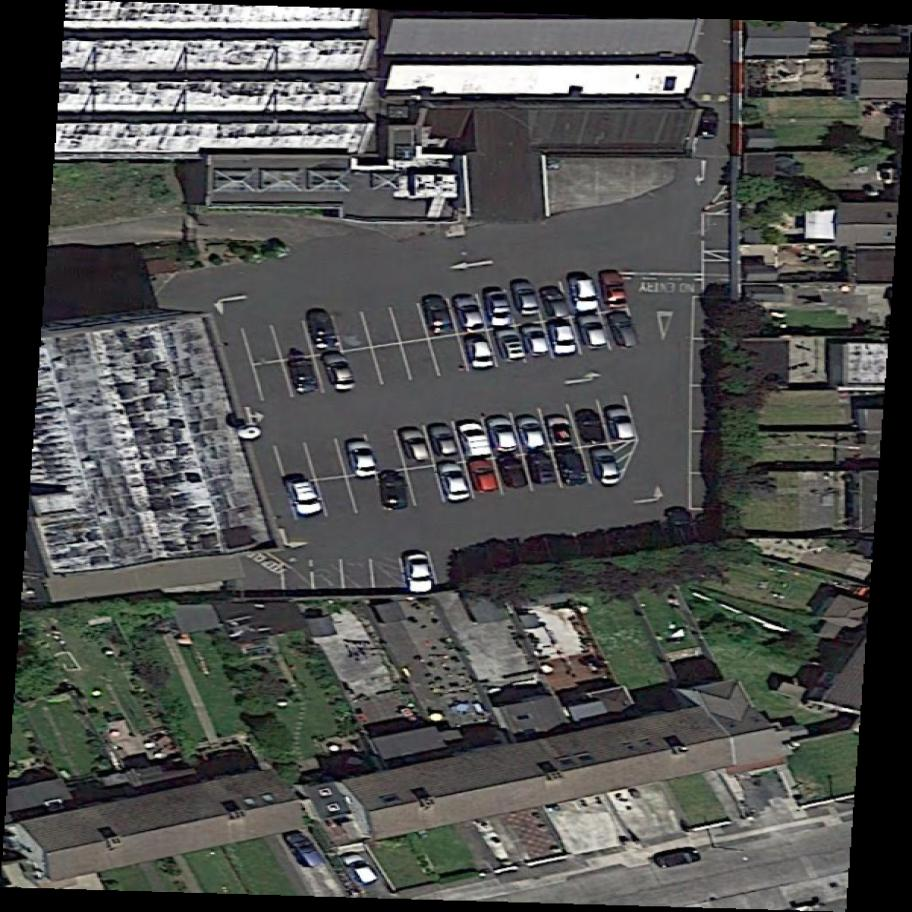small-vehicle: (284, 824, 326, 874), (285, 473, 326, 524), (320, 346, 358, 397), (587, 441, 624, 492), (341, 846, 381, 891), (419, 293, 457, 340), (457, 418, 495, 465), (605, 307, 642, 354), (564, 275, 601, 319), (437, 460, 472, 506), (454, 290, 487, 337), (575, 311, 610, 355), (545, 317, 580, 361), (466, 456, 502, 498), (461, 332, 496, 375), (493, 324, 528, 366), (574, 406, 609, 448), (487, 414, 522, 456), (344, 437, 378, 480), (398, 425, 432, 468), (288, 354, 322, 397), (604, 402, 637, 446), (429, 421, 463, 461), (557, 448, 590, 489), (516, 413, 548, 455), (599, 269, 630, 312), (527, 449, 560, 489), (481, 289, 513, 329), (404, 554, 434, 596), (651, 847, 703, 871), (511, 280, 542, 320), (498, 453, 530, 491), (546, 413, 577, 451), (522, 322, 552, 361), (666, 509, 696, 547), (380, 471, 408, 511), (542, 285, 572, 322), (310, 311, 337, 351), (697, 109, 719, 139)
